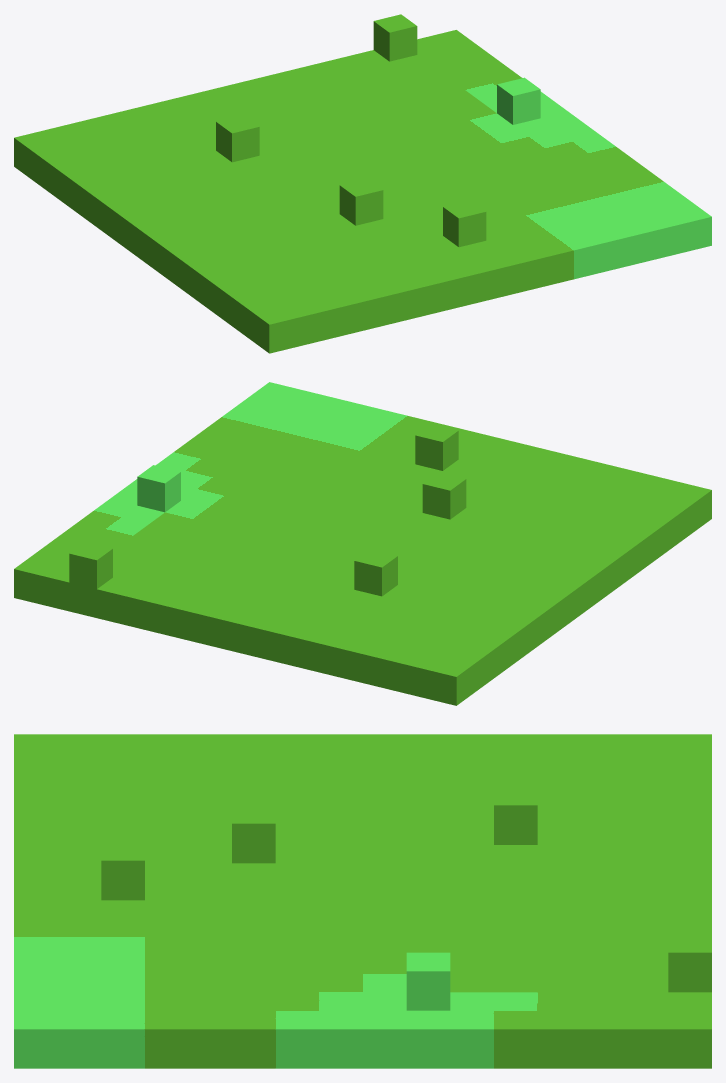
Rendered from env_grass2f.fbx.
The picture shows the model from 3 angles, top to bottom: view 1: azimuth 30°, elevation 25°; view 2: azimuth 150°, elevation 25°; view 3: azimuth 270°, elevation 25°; orthographic projection. The views are drawn at different scales.
Visible parts, largest first — view 1: env_grass2f; view 2: env_grass2f; view 3: env_grass2f.
Boxes of the visible parts, bbox=[...] form: env_grass2f: bbox=[14, 14, 711, 353]; env_grass2f: bbox=[14, 382, 711, 705]; env_grass2f: bbox=[14, 734, 711, 1068].
Bounding box in the file's own units: 1.6 × 1.6 × 0.2.
Materials: 1 (1 with a texture image).
